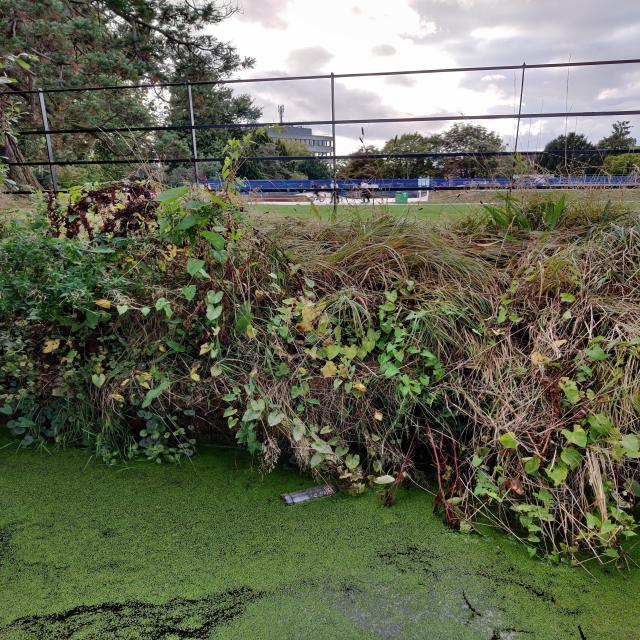litter: (252, 474, 359, 517)
